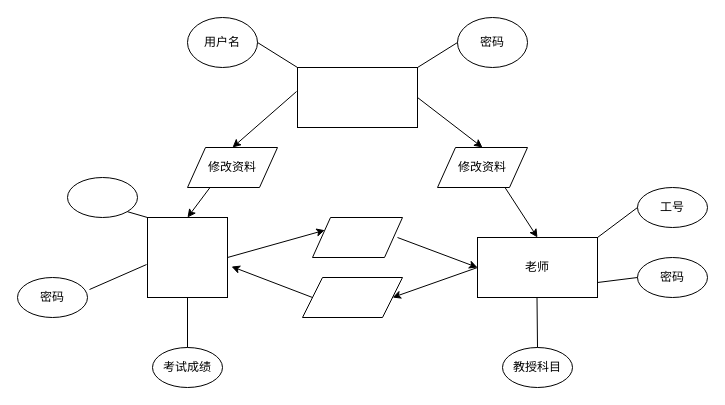
The diagram is 725 pixels wide and 405 high, and some of its shapes have lost their labels. The shapes that lost their labels are listed below. From the top down, each one's box as (x1, y1, x2, y2) in pixels, then its label:
(296, 66, 418, 128): 超级管理员
(66, 176, 138, 218): 学号
(146, 216, 228, 298): 学生
(312, 216, 402, 258): 选择科目
(302, 276, 402, 318): 批改成绩
